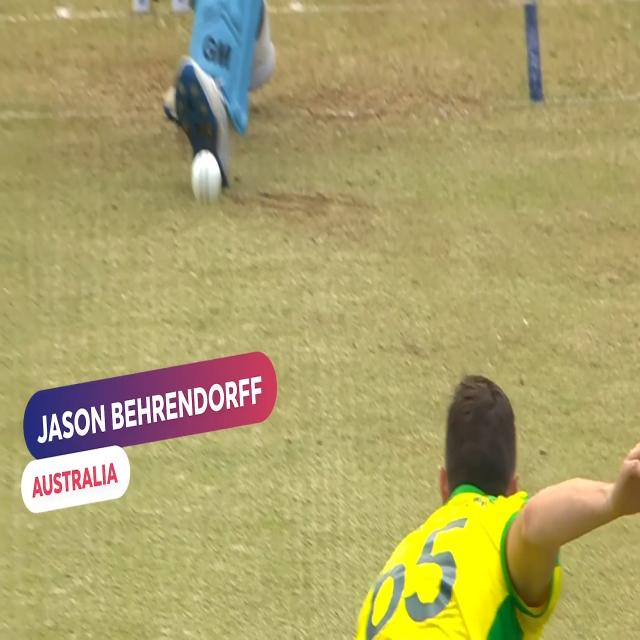ball: (188, 150, 224, 207)
